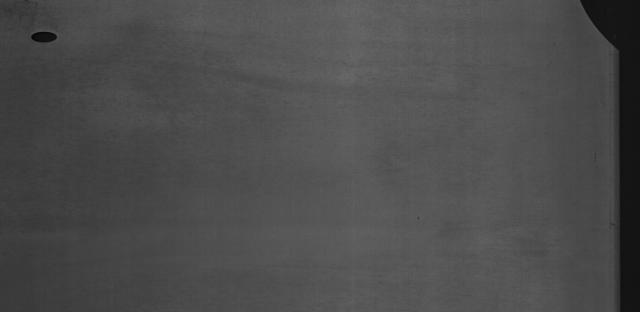crescent_gap: (547, 0, 636, 62)
punching_hole: (7, 27, 67, 56)
